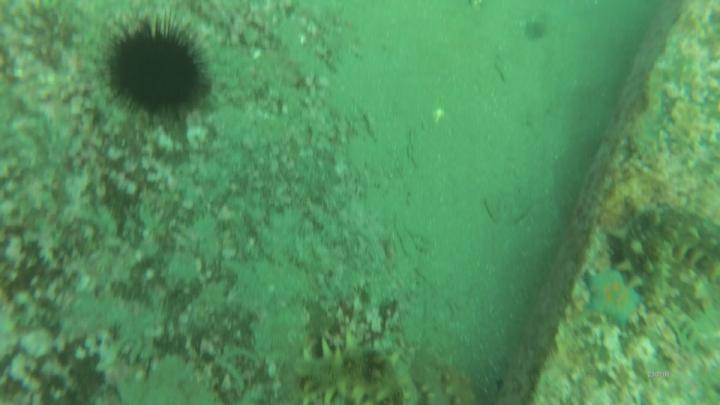echinus: (103, 23, 214, 127)
holothurian: (614, 205, 720, 301), (298, 335, 408, 405), (403, 346, 477, 404)
starfish: (583, 269, 638, 329)
